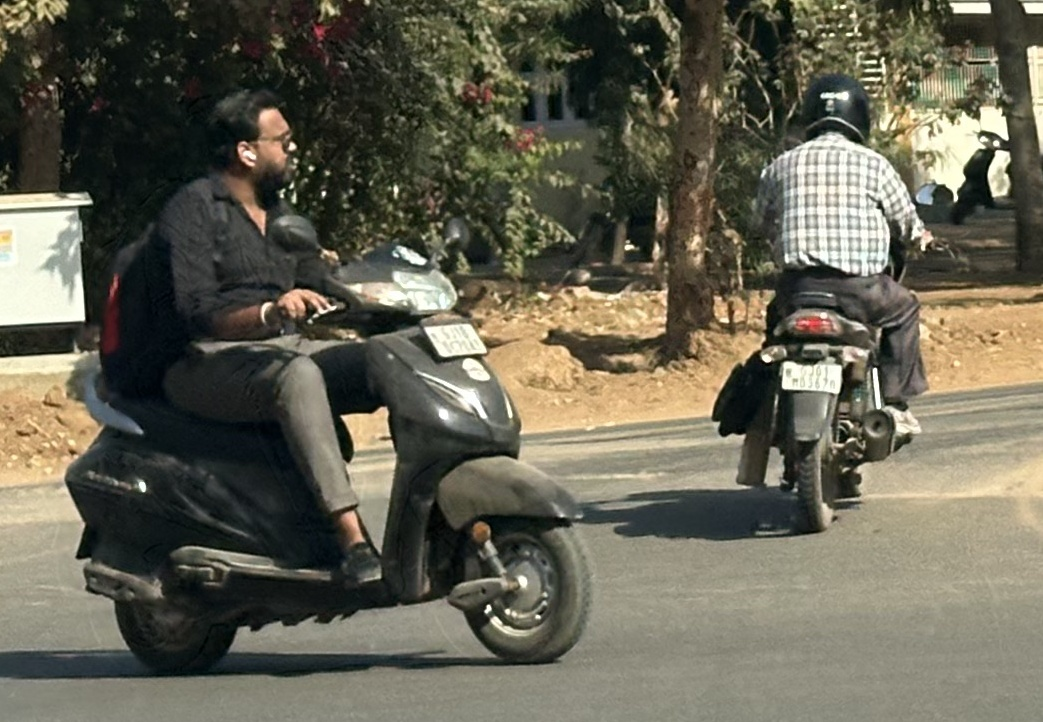BikeWithRider: (62, 84, 603, 665), (706, 67, 958, 536)
Helmet: (801, 69, 876, 150)
NoHelmet: (200, 85, 306, 188)
